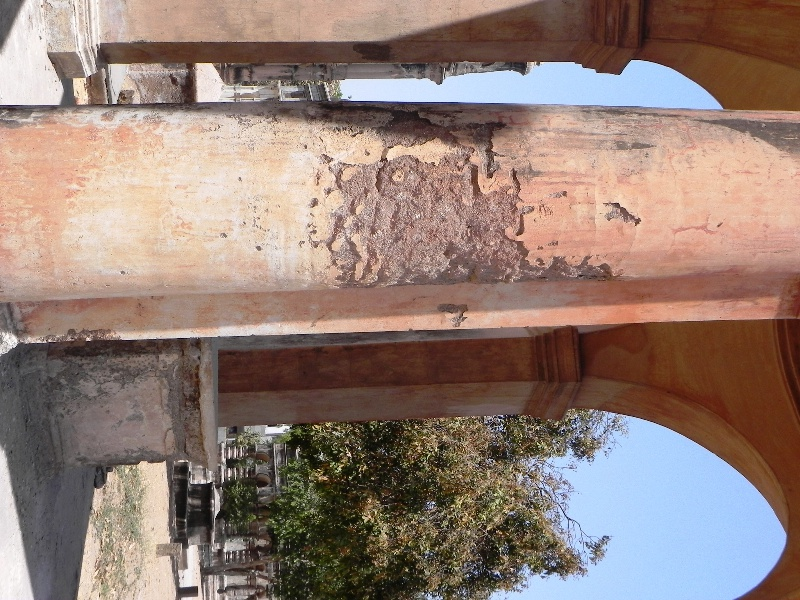Spalling: (315, 101, 646, 286), (435, 292, 477, 329)
